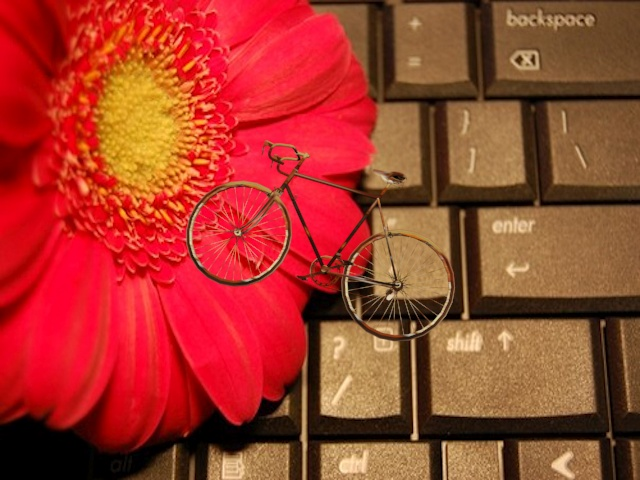bike: (177, 128, 465, 353)
